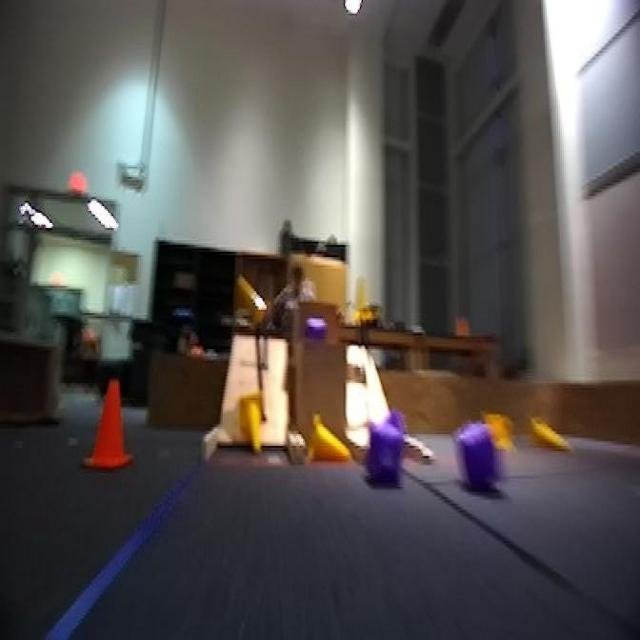frc_cone: (226, 267, 261, 329), (237, 392, 268, 459), (526, 410, 570, 456), (312, 416, 349, 462), (470, 410, 506, 439), (356, 279, 374, 327)
frc_cube: (461, 434, 494, 492), (367, 429, 398, 482), (303, 323, 329, 344)
